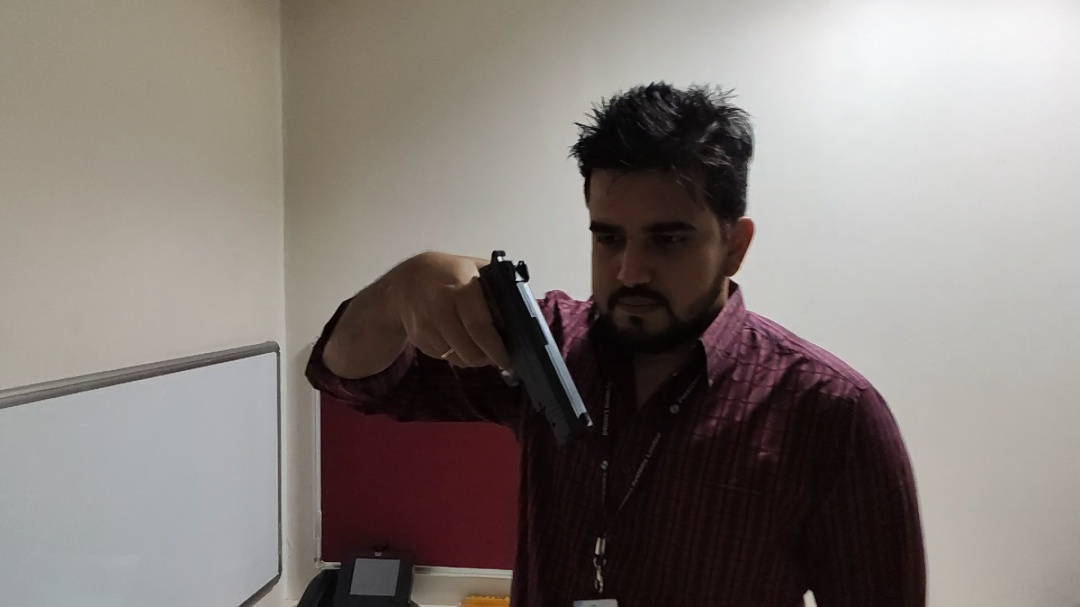gun: (443, 248, 610, 449)
